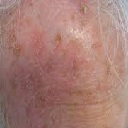Actinic: (29, 87, 54, 113), (50, 31, 71, 55)
